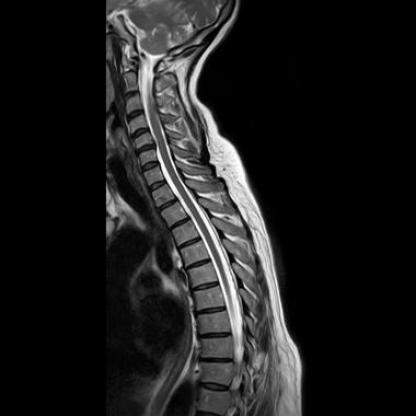Disc Bulgerotation: (134, 142, 156, 156)
